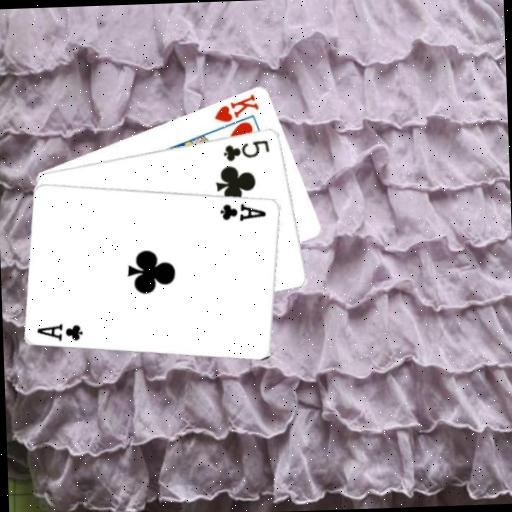5C: (220, 136, 271, 163)
AC: (34, 318, 85, 343), (217, 199, 268, 223)
KH: (210, 90, 261, 124)
